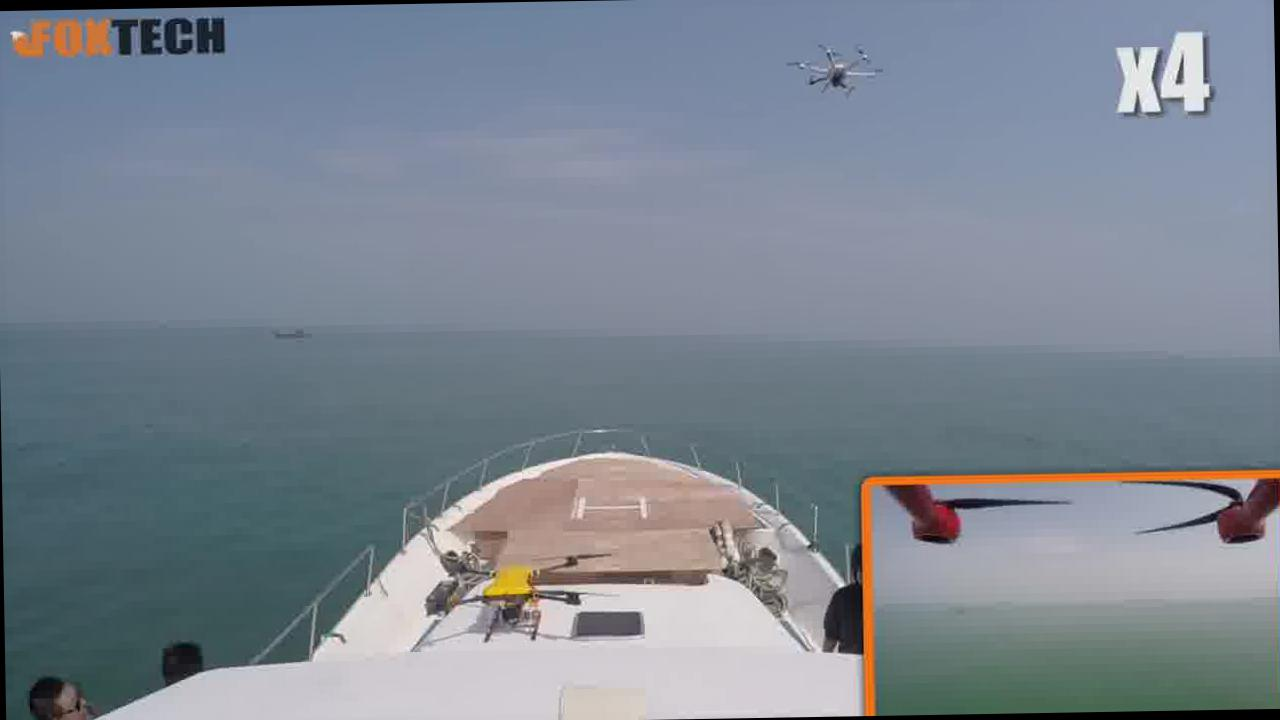drone: (417, 536, 624, 656), (774, 26, 898, 109)
